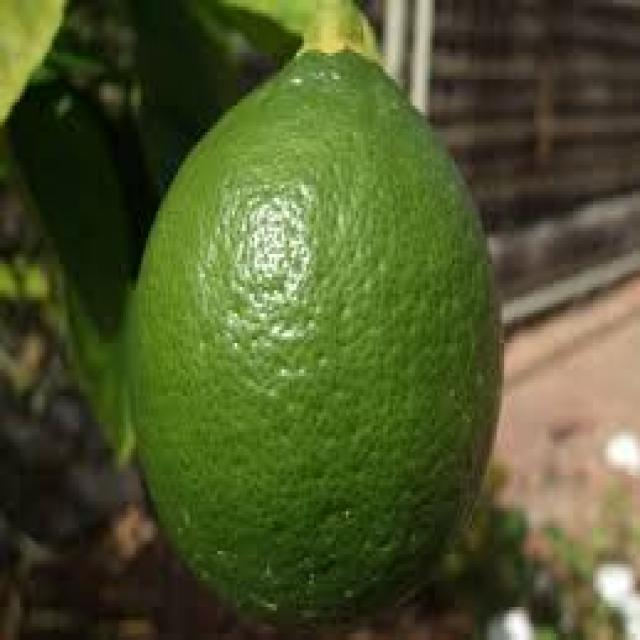Lemon: (122, 42, 508, 631)
